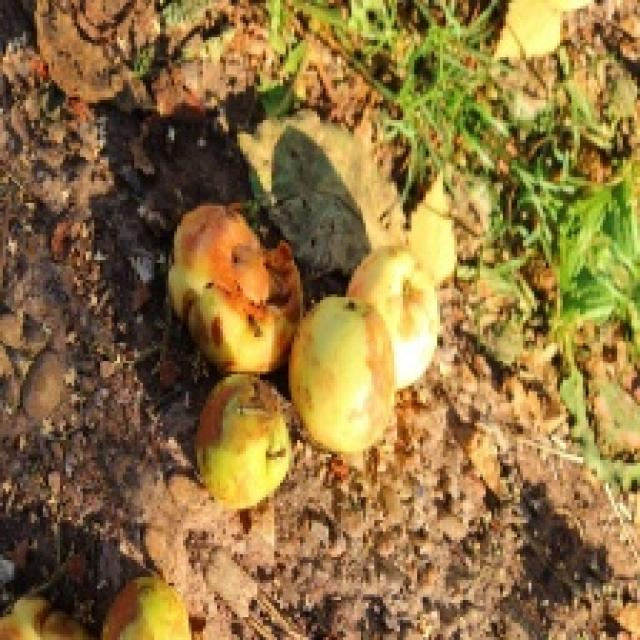rotten_apple: (172, 204, 300, 367), (296, 301, 398, 448), (200, 375, 293, 503)
